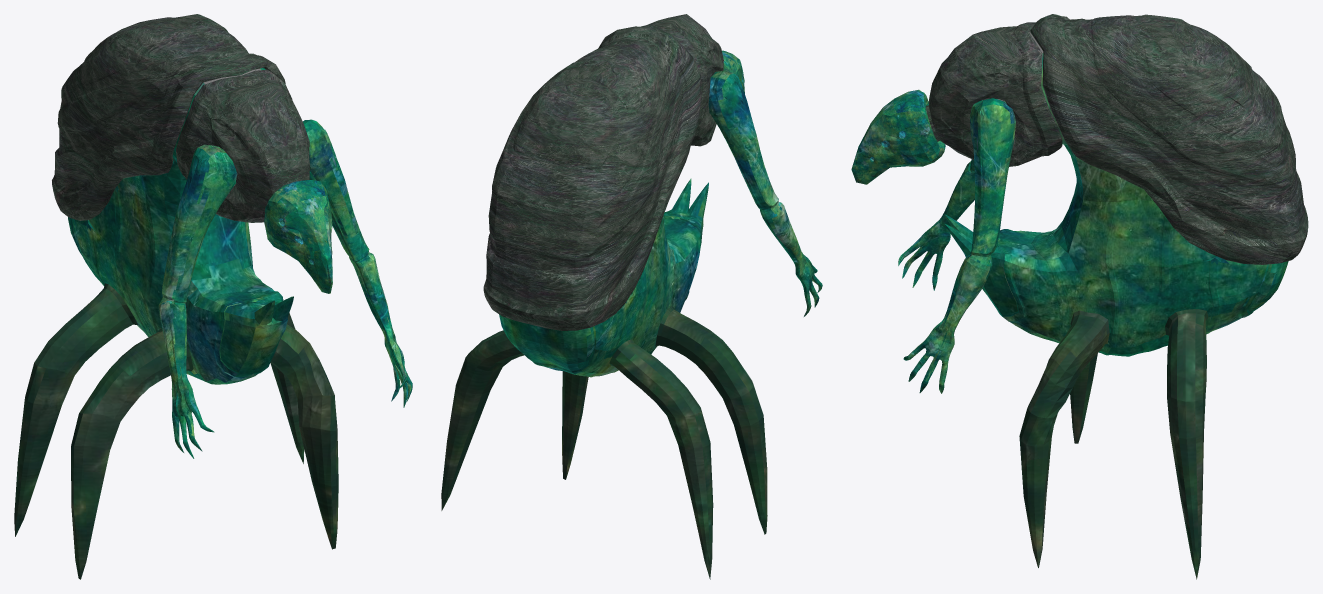
Rendered from Andar.0002.obj.
3 views of the same model, side by side, from view 1: azimuth 30°, elevation 25°; view 2: azimuth 150°, elevation 25°; view 3: azimuth 270°, elevation 25° (orthographic). The views are drawn at different scales.
Bounding box in the file's own units: 2.34 × 3.92 × 3.26.
5 materials, 4 textured.
